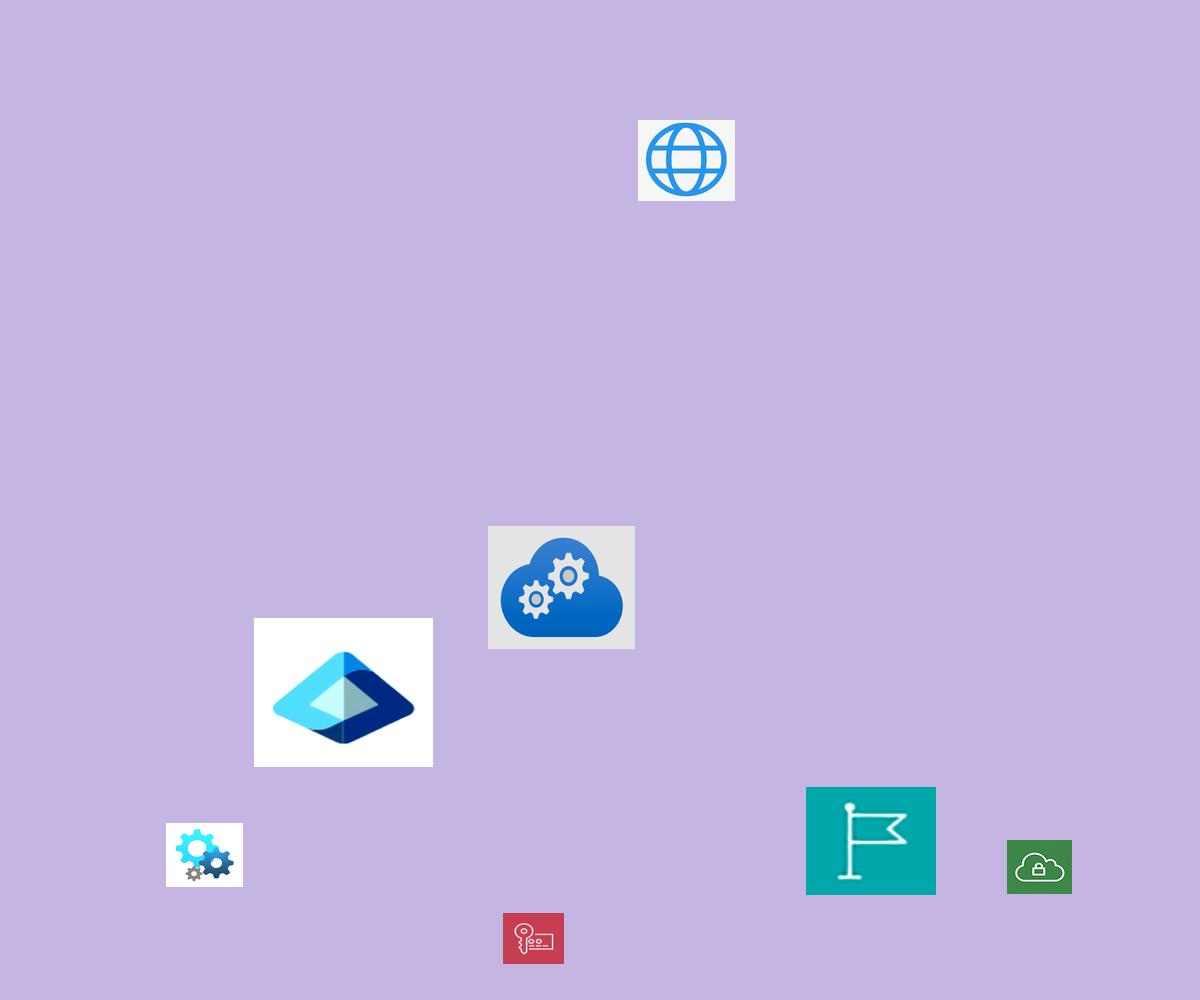AWS-Key-Management-Service: (503, 913, 564, 964)
AWS-Private_vpc: (1007, 840, 1072, 894)
AWS-Region: (806, 787, 936, 895)
Azure_api: (166, 823, 243, 887)
Azure_cloud_services: (488, 526, 635, 649)
Azure_http: (638, 120, 735, 201)
Azure_microsoft_entra: (254, 618, 433, 767)
